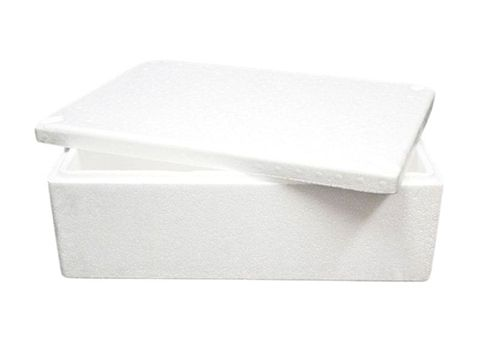泡沫箱: (34, 63, 442, 282)
